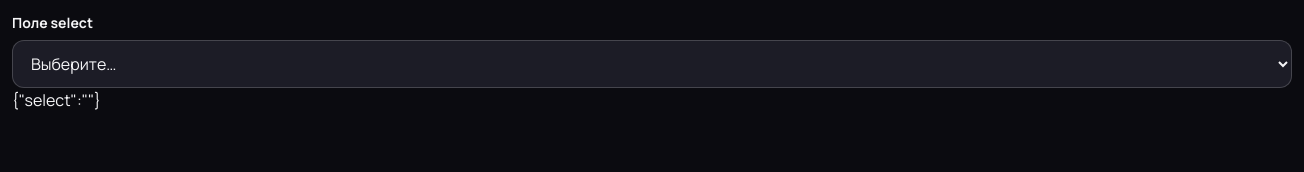
Test: DynamicField — сам выбирает элемент по типу поля › select → выпадающий список с вариантами
Select "Астана" in the dropdown labelled "Поле select": (652, 64) [12,40,1292,88]
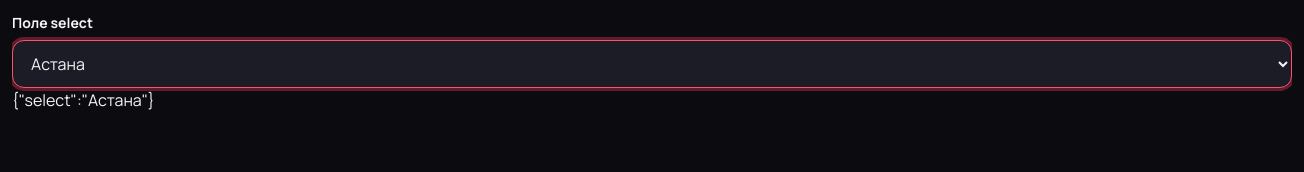
Check: the text with test id "values" shows "\"select\":\"Астана\"", box [12,89,155,111]
